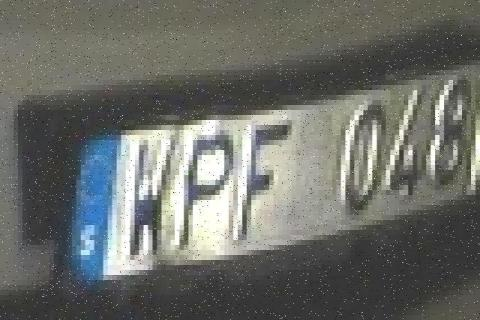LicensePlate: (47, 54, 480, 298)
